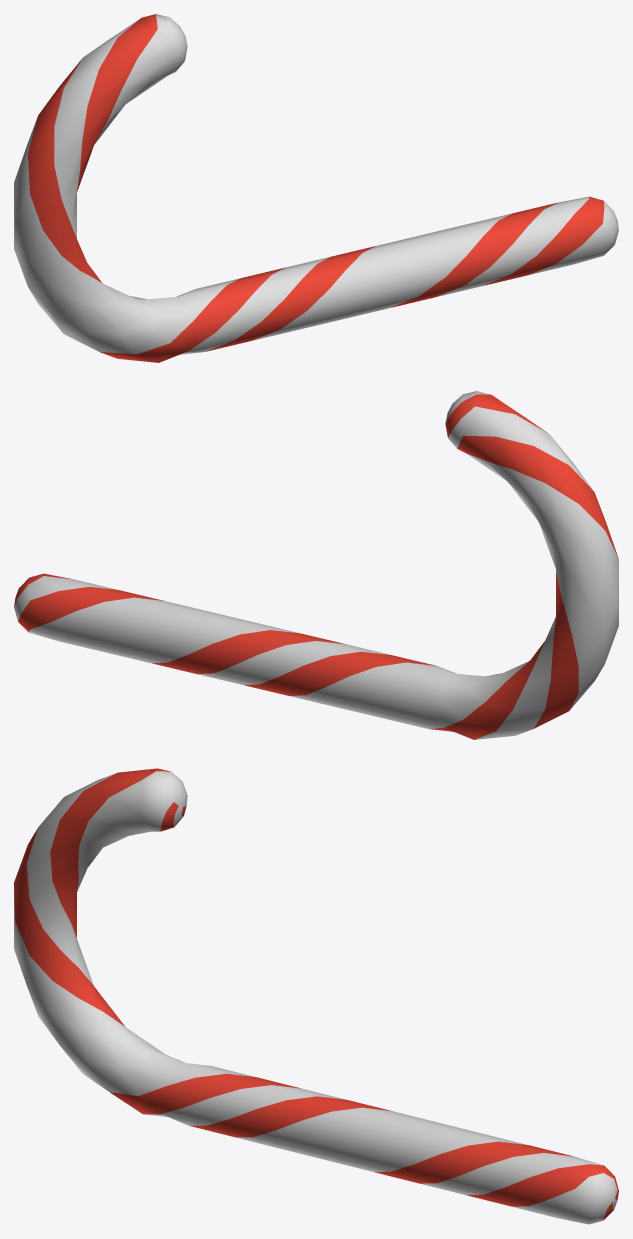
Rendered from SM_Quest_SugarCane.fbx.
The picture shows the model from 3 angles, top to bottom: view 1: azimuth 30°, elevation 25°; view 2: azimuth 150°, elevation 25°; view 3: azimuth 330°, elevation 25°; orthographic projection.
Visible parts, largest first — view 1: Circle; view 2: Circle; view 3: Circle.
Part boxes in pixels (x1,y1,x2,y2): Circle: (14,14,618,362); Circle: (14,391,618,739); Circle: (14,768,618,1224).
Bounding box in the file's own units: 432 × 238 × 40.
